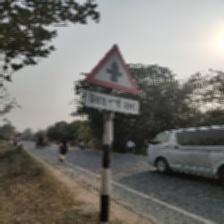Crossroad: (81, 44, 143, 117)
